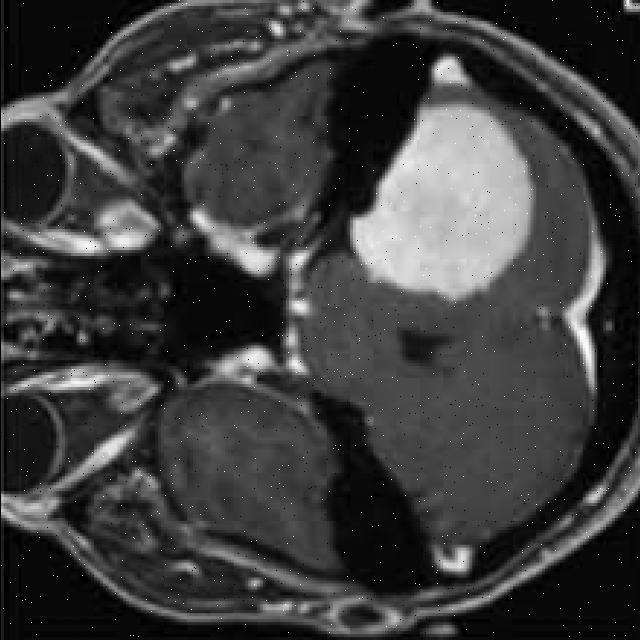Meningioma: (351, 103, 534, 299)
